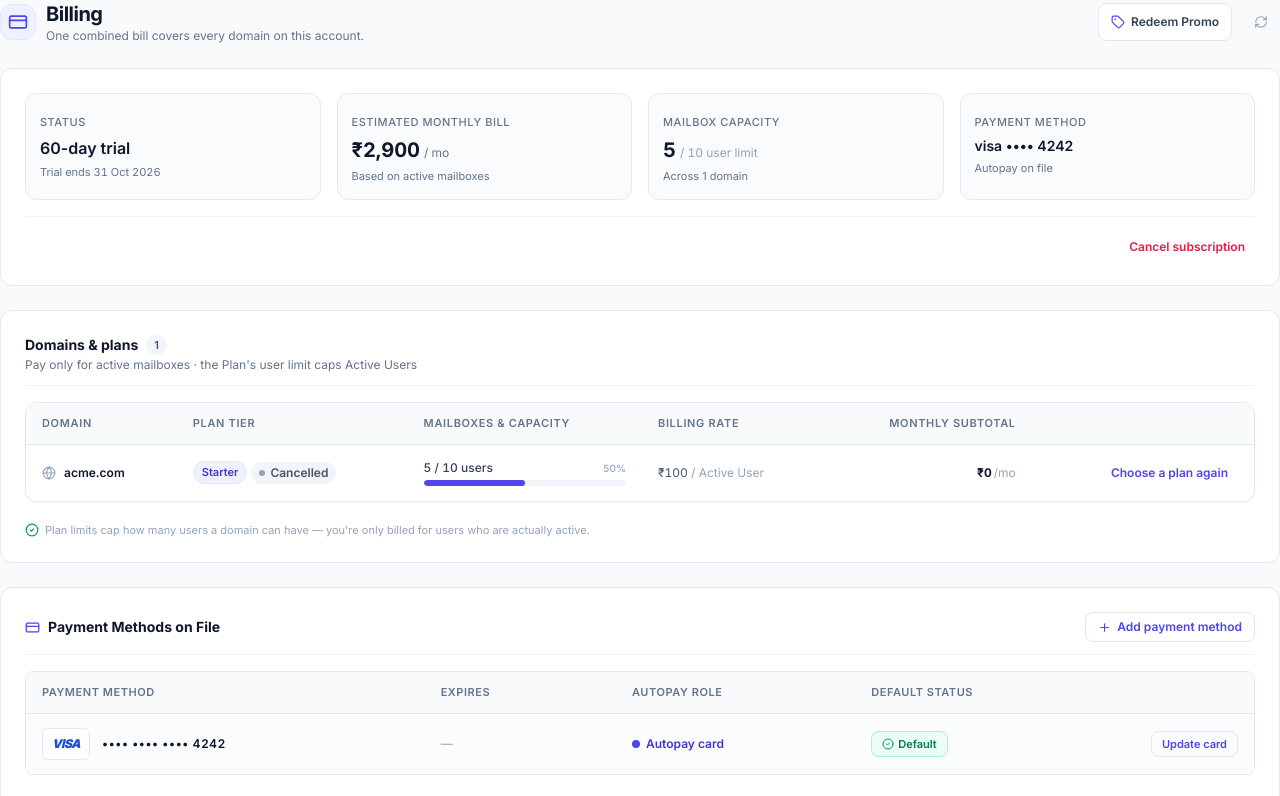
Test: BillingView: changing a domain's Plan › cancelling a domain and choosing a plan again › Choose a plan again picks a Plan through Plan selection and the domain is billed again
Click the button "Choose a plan again": (1169, 472) left=1101, top=458, right=1238, bottom=486
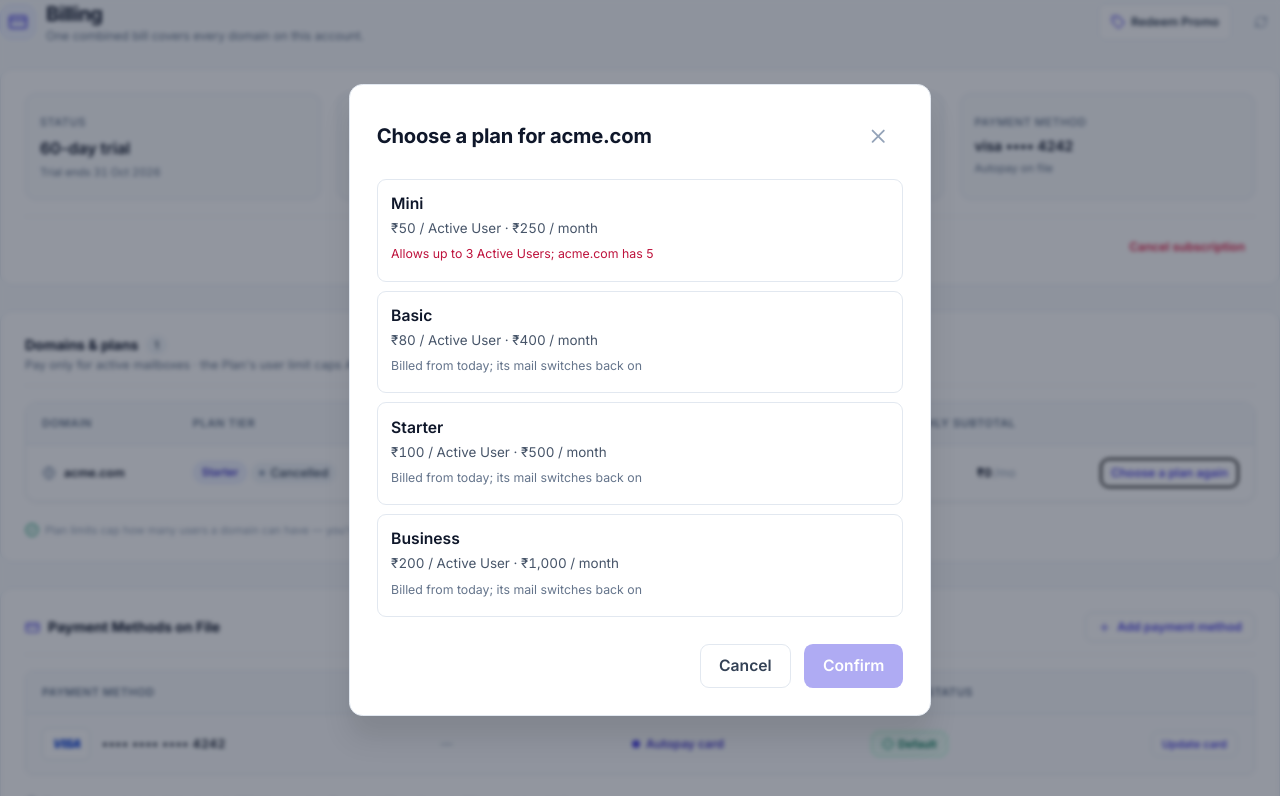
Click the button that starts with "Business": (425, 539) left=377, top=514, right=903, bottom=617
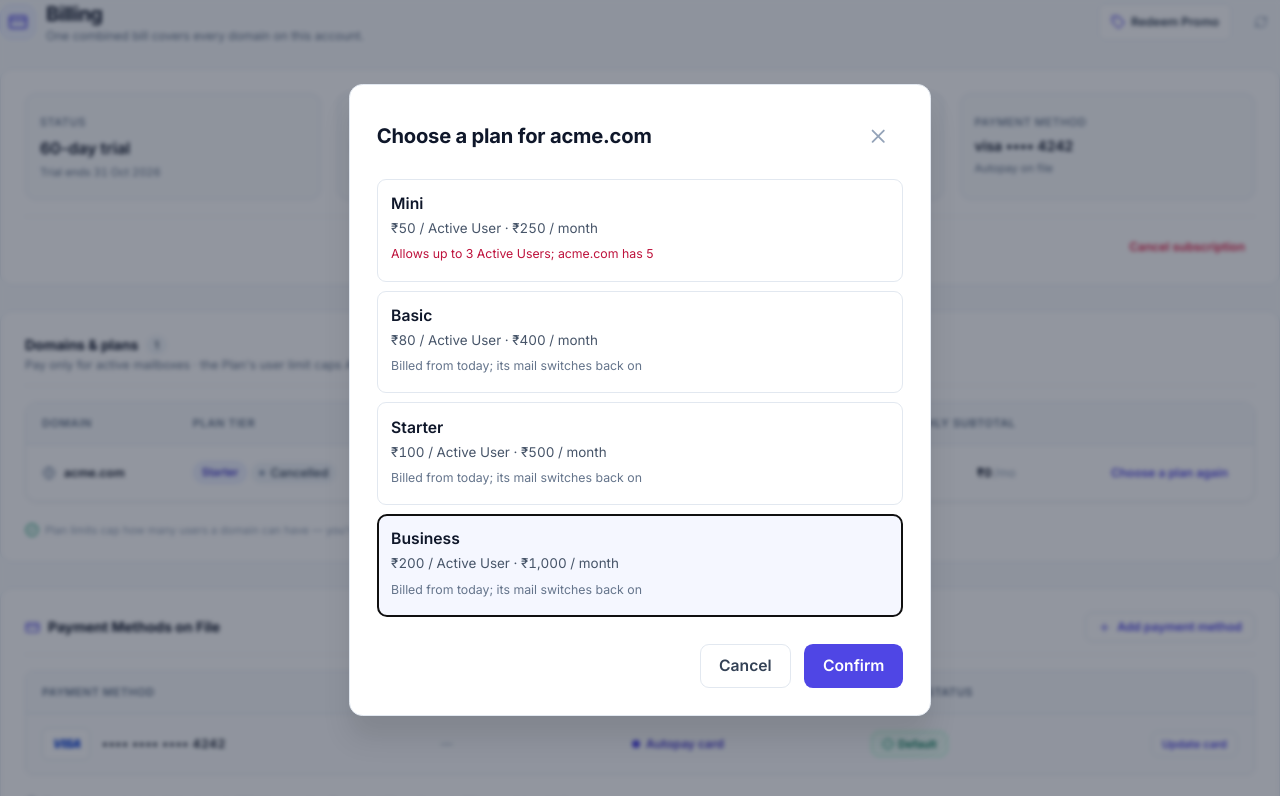
Click the button "Confirm": (854, 666) left=804, top=644, right=903, bottom=688
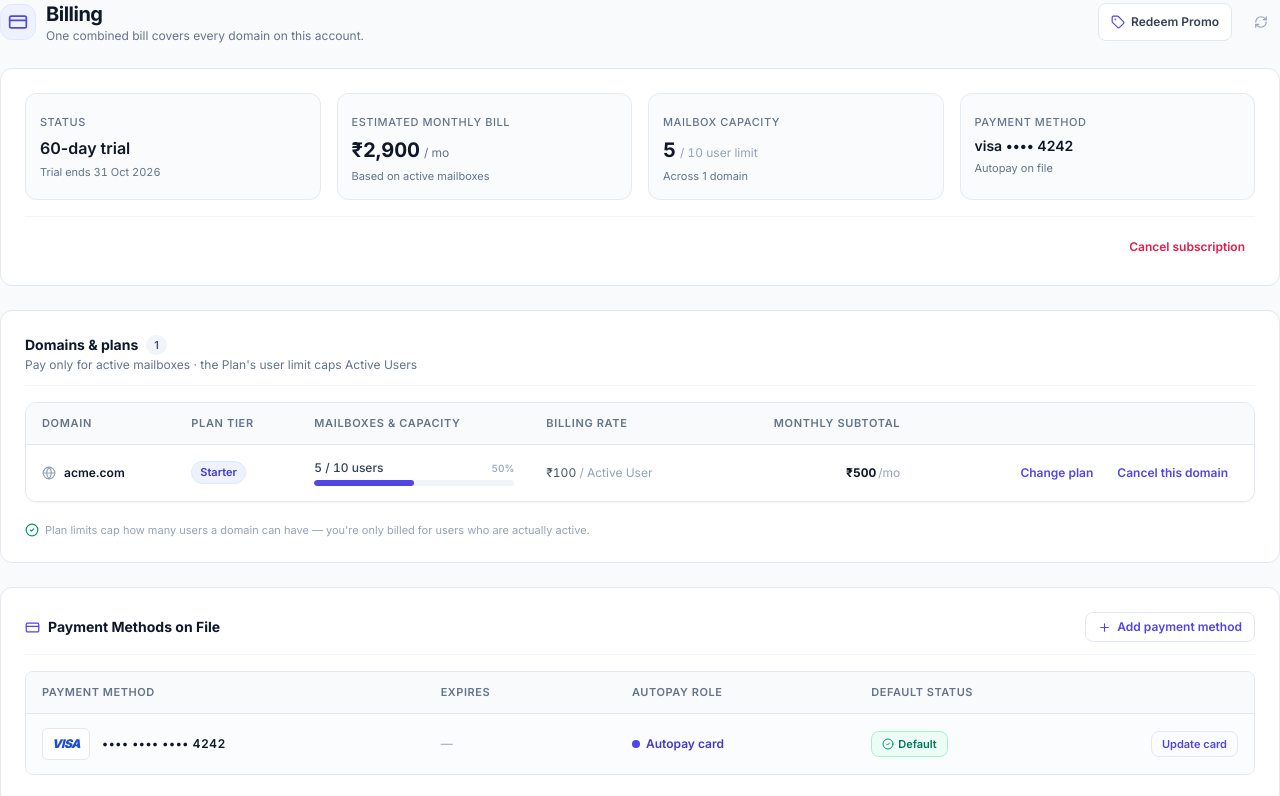
Expected: the button "Change plan" is shown, left=1010, top=458, right=1103, bottom=486
Expected: the text "Cancelled" is gone
